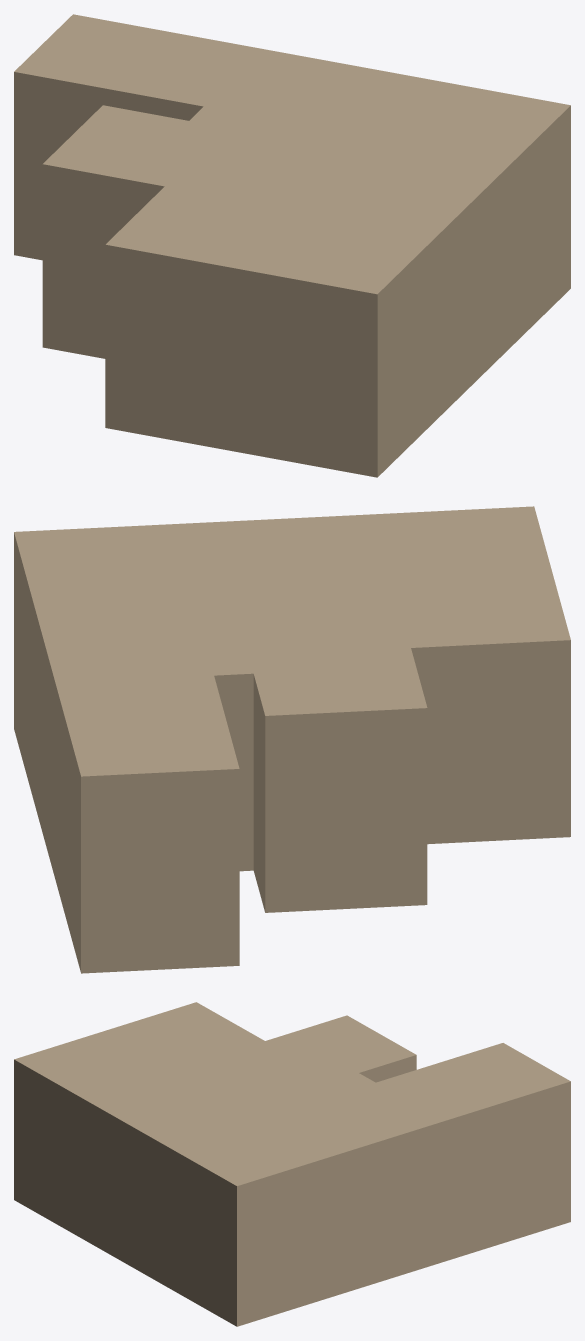
File: bld_100478169.dae
3 views of the same model, one above another, from view 1: azimuth 30°, elevation 25°; view 2: azimuth 150°, elevation 25°; view 3: azimuth 270°, elevation 25° (orthographic). The views are drawn at different scales.
Visible parts, largest first — view 1: Queen Victoria; view 2: Queen Victoria; view 3: Queen Victoria.
Boxes of the visible parts, x1,y1,x2,y2 form: Queen Victoria: (14,14,570,477); Queen Victoria: (14,506,570,973); Queen Victoria: (14,1002,570,1326).
Size of the model in its own units: 16.85 by 21.54 by 6.
